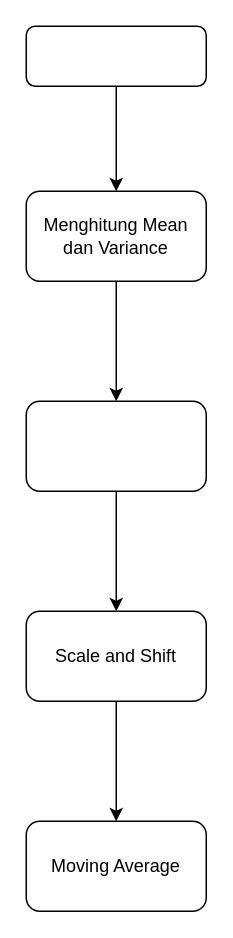
The diagram is 233 pixels wide and 938 high, and some of its shapes have lost their labels. Here are the shapes that lost their labels. From the top down, the centre of each, then its label:
At [115,55]: "Activation".
At [115,445]: "Normalization".
